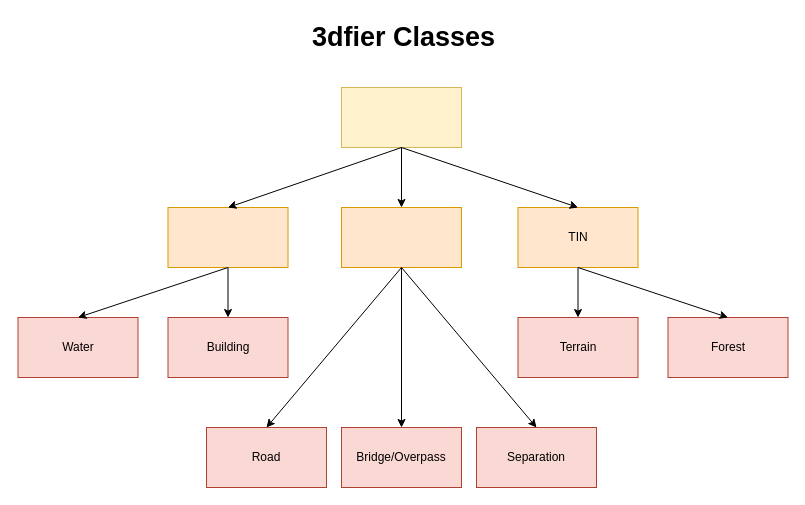
The diagram is 805 pixels wide and 505 high, and some of its shapes have lost their labels. Each missing label, with the centre of its shape:
Boundary3D: the point at 401,237
Flat: the point at 227,237
TopoFeature: the point at 401,117
